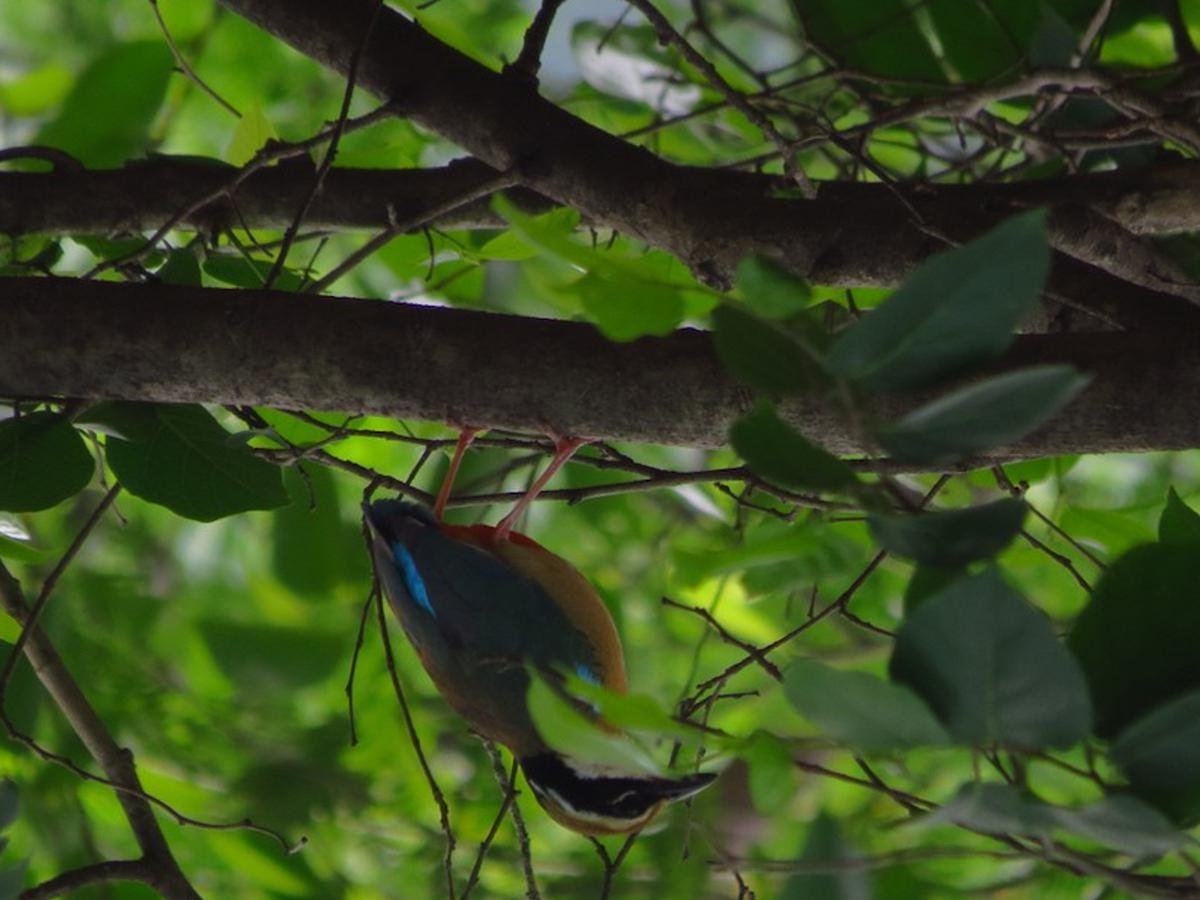pitta: (359, 392, 739, 833)
